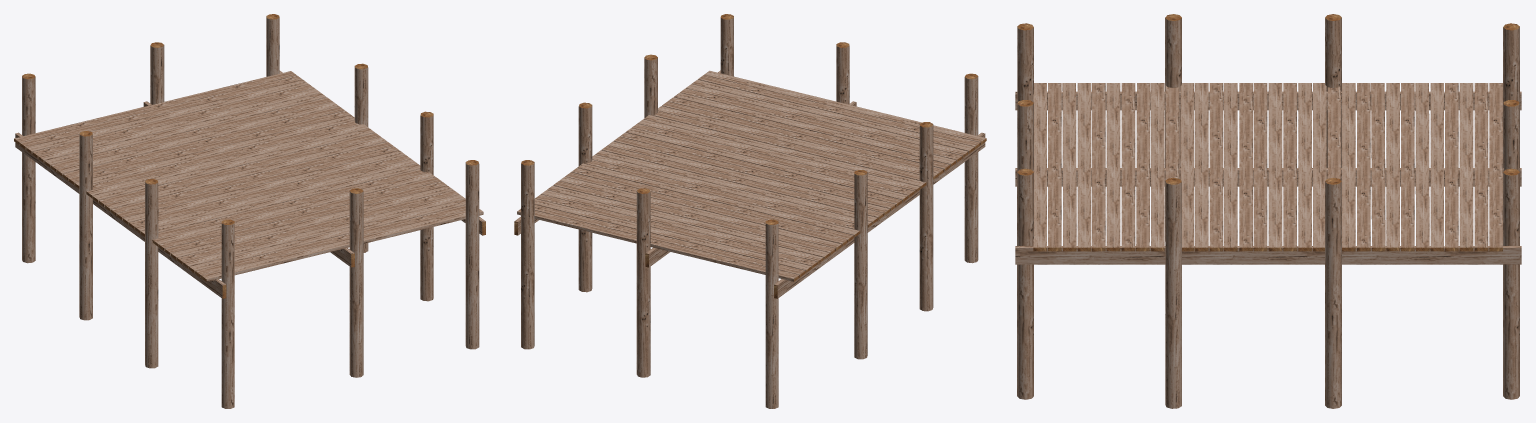
File: DESCK_ELEMENT_2.fbx
3 renders of one model, left to right at view 1: azimuth 30°, elevation 25°; view 2: azimuth 150°, elevation 25°; view 3: azimuth 270°, elevation 25°, orthographic. The views are drawn at different scales.
Visible parts, largest first — view 1: Cylinder.001, Cylinder.004, Cylinder.008, Cylinder.009, Cylinder.006, Cylinder.007, Cube.085, Cylinder.011, Cube.055, Cube.008, Cube.071, Cube.066 (+31 smaller); view 2: Cylinder.009, Cylinder.005, Cylinder.003, Cylinder.008, Cylinder.007, Cylinder.006, Cube.008, Cube.064, Cylinder.010, Cube.072, Cube.068, Cube.075 (+31 smaller); view 3: Cube.086, Cylinder.011, Cylinder.010, Cylinder.001, Cylinder.003, Cube.055, Cube.056, Cube.069, Cube.070, Cube.073, Cube.079, Cube.080 (+33 smaller).
Boxes of the visible parts, x1,y1,x2,y2 form: Cylinder.001: [465, 160, 479, 349]; Cylinder.004: [349, 188, 363, 377]; Cylinder.008: [79, 131, 92, 320]; Cylinder.009: [145, 179, 158, 368]; Cylinder.006: [221, 219, 234, 408]; Cylinder.007: [22, 73, 35, 263]; Cube.085: [201, 209, 483, 281]; Cylinder.011: [420, 111, 433, 301]; Cube.055: [20, 75, 302, 149]; Cube.008: [14, 71, 296, 145]; Cube.071: [116, 146, 399, 220]; Cube.066: [86, 124, 368, 197]; Cylinder.009: [919, 122, 933, 311]; Cylinder.005: [636, 188, 650, 377]; Cylinder.003: [521, 160, 534, 349]; Cylinder.008: [854, 170, 867, 359]; Cylinder.007: [765, 219, 778, 408]; Cylinder.006: [964, 73, 978, 263]; Cube.008: [517, 209, 799, 281]; Cube.064: [577, 163, 859, 237]; Cylinder.010: [578, 102, 592, 292]; Cube.072: [625, 128, 908, 202]; Cube.068: [601, 145, 883, 219]; Cube.075: [644, 115, 926, 188]; Cube.086: [1015, 246, 1521, 264]; Cylinder.011: [1165, 178, 1181, 408]; Cylinder.010: [1325, 177, 1341, 408]; Cylinder.001: [1017, 168, 1033, 399]; Cylinder.003: [1503, 168, 1519, 399]; Cube.055: [1474, 83, 1488, 251]; Cube.056: [1459, 83, 1473, 251]; Cube.069: [1268, 83, 1282, 251]; Cube.070: [1253, 83, 1267, 251]; Cube.073: [1209, 83, 1223, 251]; Cube.079: [1121, 83, 1135, 251]; Cube.080: [1106, 83, 1120, 251].
Size of the model in its own units: 576 by 352 by 721.
Materials: 1 (1 with a texture image).
